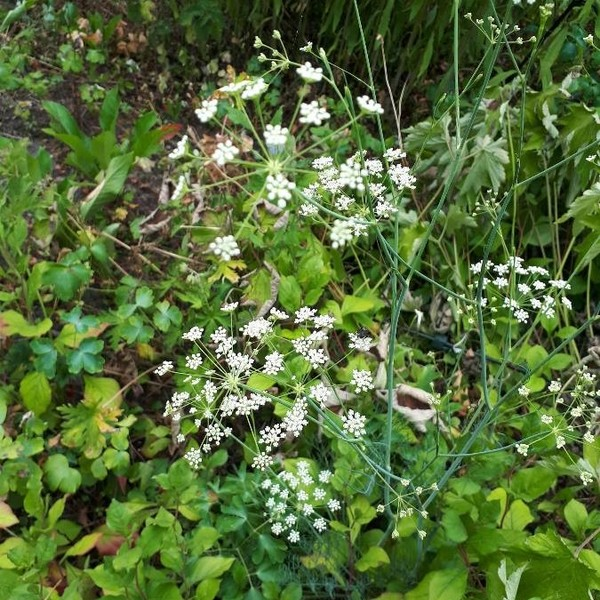obstacle: (161, 69, 519, 565)
